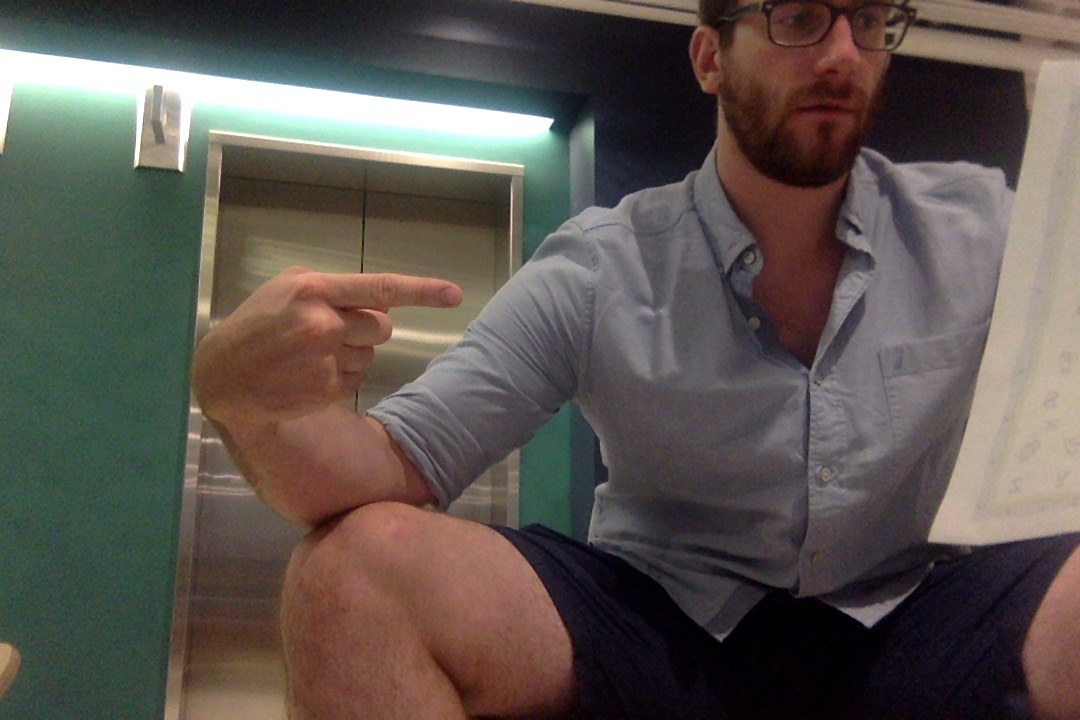g: (188, 266, 464, 423)
